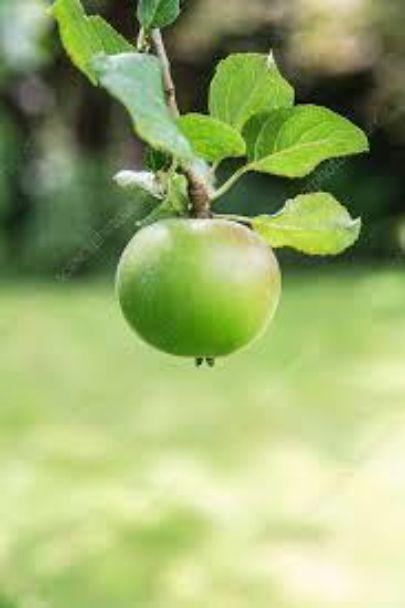HEALTHY: (101, 191, 302, 376)
